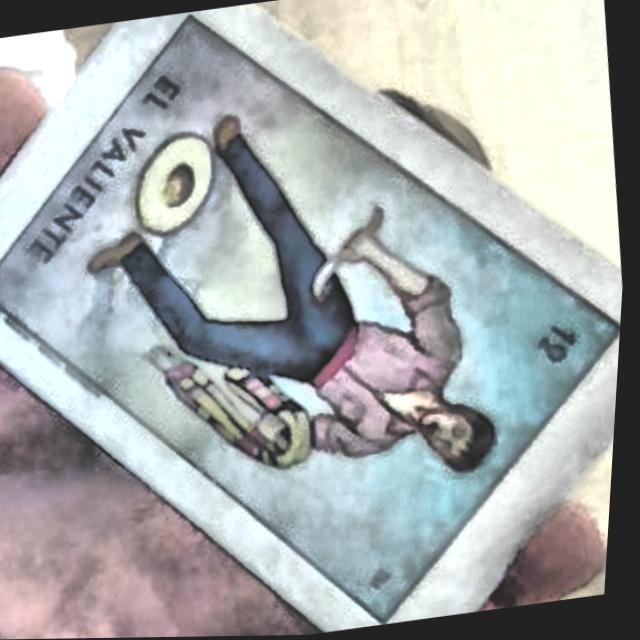El Valiente: (0, 20, 624, 624)
